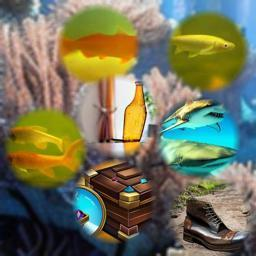treasure: (83, 161, 157, 236)
